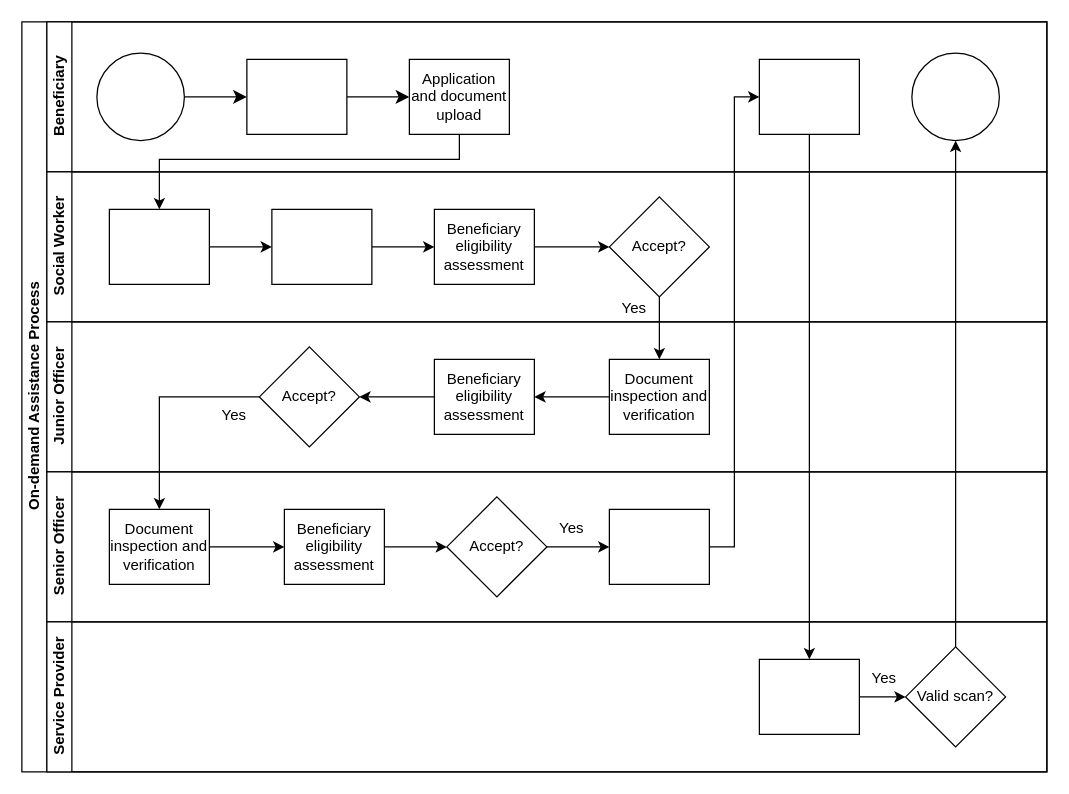
The diagram is 1069 pixels wide and 794 high, and some of its shapes have lost their labels. The shapes that lost their labels are listed below. From the top down, each one's centre as x and y in pixels, then its label:
[140,96]: Login into Self Service Portal
[296,96]: Identity verification with QR code
[808,96]: Visit service provider with entitlement voucher
[955,96]: Receive assistance from service provider
[158,246]: Document inspection and enrollment
[321,246]: Deduplication of enrolled beneficiaries
[658,546]: Generate entitlement voucher with QR code
[808,696]: Scan QR code in entitlement voucher
